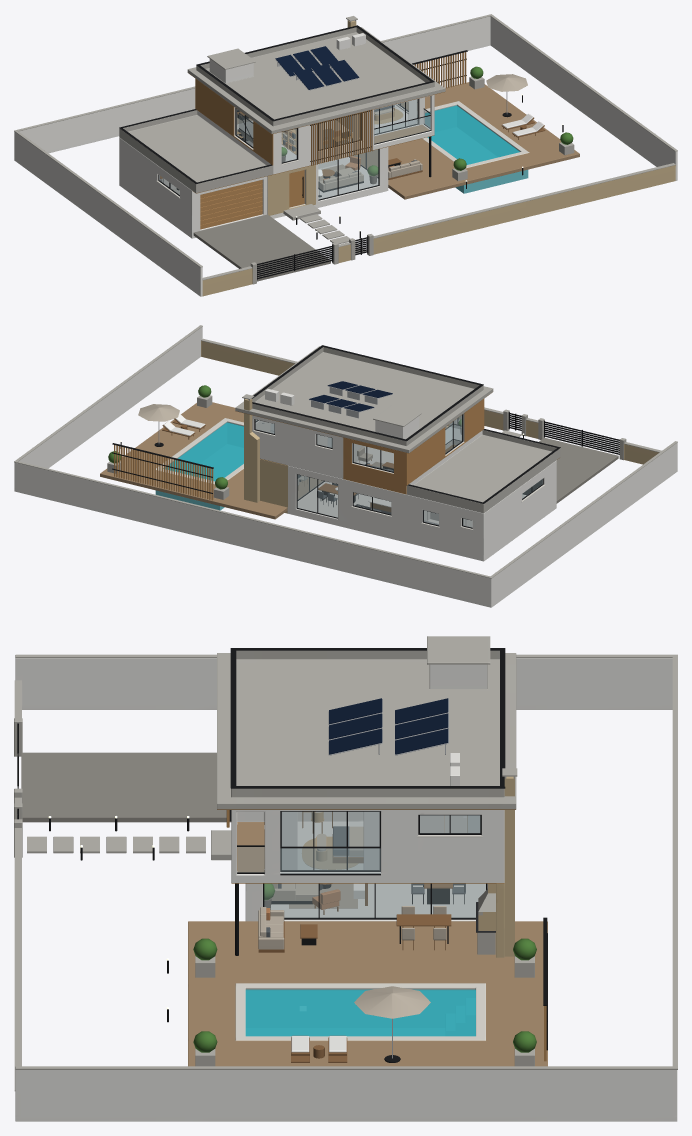
Rendered from casa.glb.
3 views of the same model, one above another, from view 1: azimuth 30°, elevation 25°; view 2: azimuth 150°, elevation 25°; view 3: azimuth 270°, elevation 25° (orthographic). The views are drawn at different scales.
Parts seen in each view (by area): view 1: Externo_arq, Cobertura_arq, Superior_arq, Terreo_arq, Externo_det, Cobertura_det, Externo_vid, Superior_vid, Terreo_det, Superior_detR, Terreo_vid, Externo_mob (+8 smaller); view 2: Externo_arq, Superior_arq, Cobertura_arq, Terreo_arq, Externo_det, Cobertura_det, Externo_detR, Externo_mob, Externo_vid, Terreo_vid, Superior_vid, Superior_det (+2 smaller); view 3: Externo_arq, Cobertura_arq, Superior_arq, Externo_det, Externo_vid, Externo_mob, Cobertura_det, Superior_vid, Terreo_vid, Terreo_arq, Superior_soft, Externo_soft (+5 smaller).
Boxes of the visible parts, x1=… form: Externo_arq: x1=14, y1=16, x2=677, y2=296; Cobertura_arq: x1=187, y1=27, x2=445, y2=134; Superior_arq: x1=119, y1=78, x2=434, y2=193; Terreo_arq: x1=119, y1=134, x2=388, y2=238; Externo_det: x1=14, y1=14, x2=677, y2=280; Cobertura_det: x1=196, y1=25, x2=434, y2=121; Externo_vid: x1=425, y1=105, x2=519, y2=164; Superior_vid: x1=236, y1=99, x2=430, y2=162; Terreo_det: x1=156, y1=114, x2=379, y2=229; Superior_detR: x1=311, y1=110, x2=372, y2=165; Terreo_vid: x1=159, y1=137, x2=378, y2=199; Externo_mob: x1=346, y1=16, x2=574, y2=181; Externo_arq: x1=14, y1=327, x2=677, y2=607; Superior_arq: x1=252, y1=399, x2=560, y2=513; Cobertura_arq: x1=235, y1=346, x2=493, y2=453; Terreo_arq: x1=260, y1=459, x2=556, y2=561; Externo_det: x1=14, y1=325, x2=677, y2=578; Cobertura_det: x1=252, y1=345, x2=483, y2=441; Externo_detR: x1=114, y1=445, x2=213, y2=500; Externo_mob: x1=107, y1=394, x2=300, y2=502; Externo_vid: x1=165, y1=422, x2=243, y2=481; Terreo_vid: x1=297, y1=474, x2=542, y2=527; Superior_vid: x1=255, y1=415, x2=461, y2=471; Superior_det: x1=253, y1=414, x2=560, y2=503; Externo_arq: x1=14, y1=658, x2=677, y2=1121; Cobertura_arq: x1=217, y1=636, x2=516, y2=809; Superior_arq: x1=231, y1=810, x2=504, y2=883; Externo_det: x1=14, y1=654, x2=677, y2=1090; Externo_vid: x1=245, y1=990, x2=475, y2=1036; Externo_mob: x1=195, y1=768, x2=534, y2=1066; Cobertura_det: x1=230, y1=648, x2=505, y2=788; Superior_vid: x1=237, y1=812, x2=480, y2=873; Terreo_vid: x1=264, y1=884, x2=485, y2=917; Terreo_arq: x1=245, y1=883, x2=504, y2=957; Superior_soft: x1=281, y1=811, x2=379, y2=869; Externo_soft: x1=258, y1=906, x2=446, y2=1052.
Size of what is drawn, in the model's own units: 34.04 by 8.93 by 23.07.
